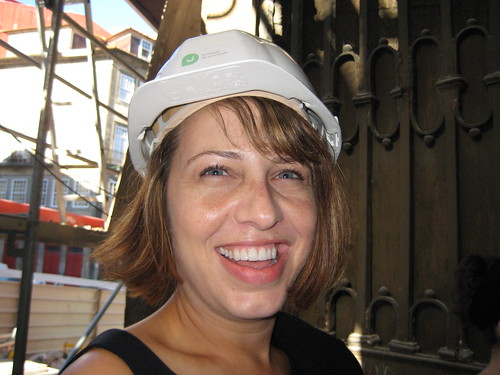person hardhat: (88, 32, 369, 375)
